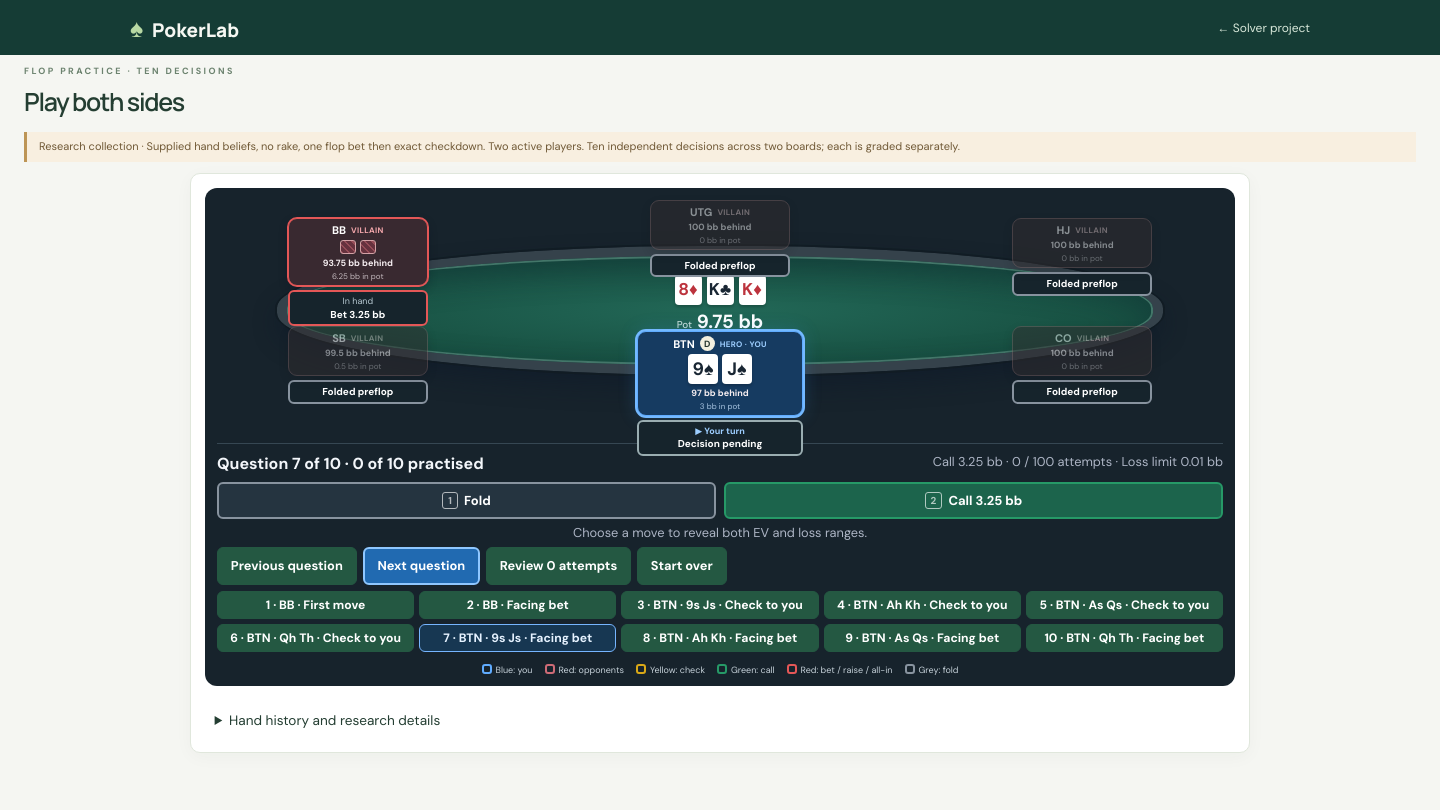
aborts an outstanding grade when the collection link changes
Click the button "1 Fold": (466, 500) [217,482,716,519]
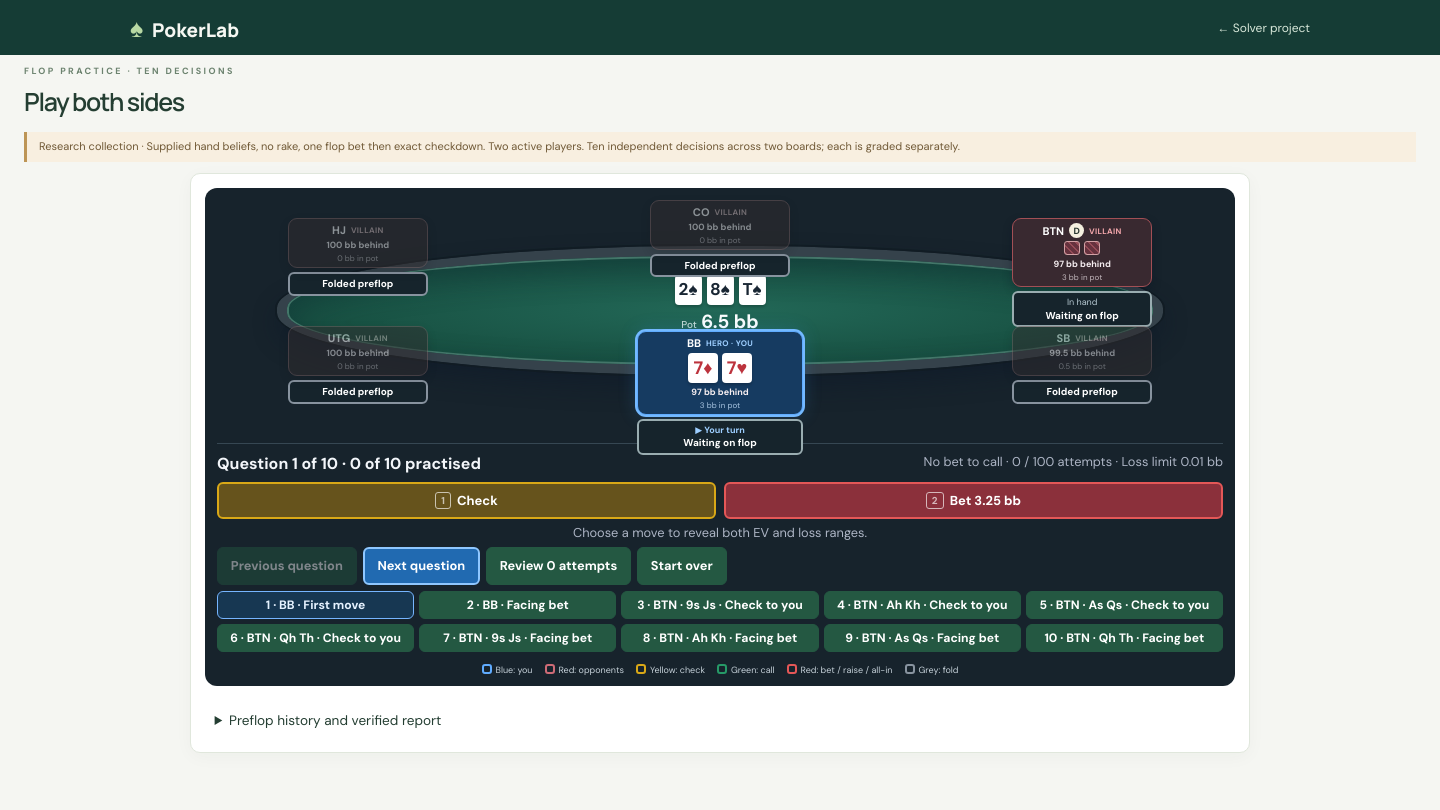
Now the button "1 Check" is shown, box [217,482,716,519]
